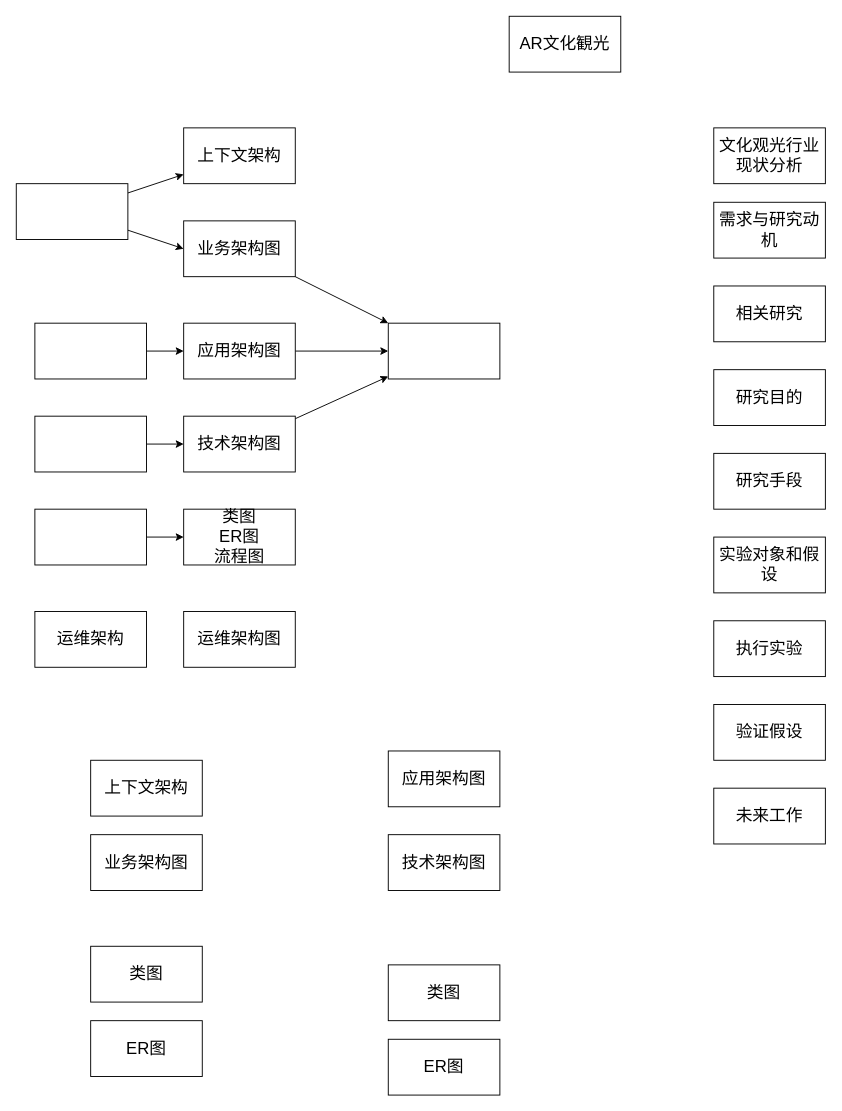
Some shapes in this 842 by 1111 pixel diagram are drawn without their labels. The centre of each missing label's shape, as x and y in pixels:
上下文: point (71, 211)
代码: point (90, 536)
容器: point (90, 350)
时序图: point (443, 350)
组件: point (90, 443)
